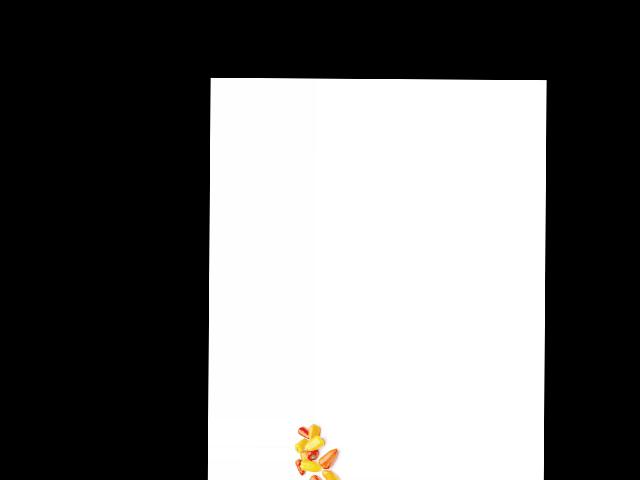bell_pepper: (294, 457, 303, 477)
